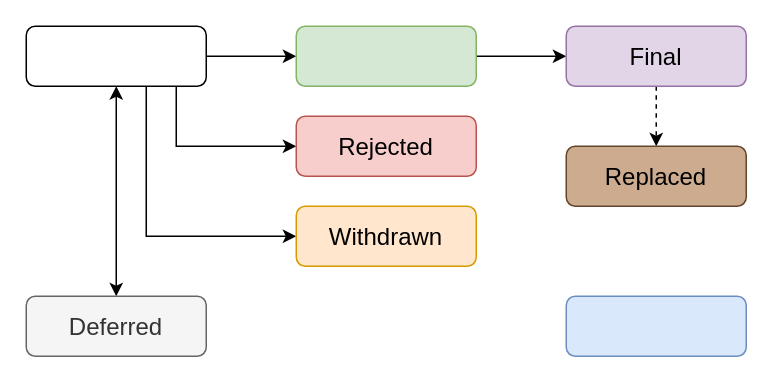
Image size: 773x383. Some labels were removed from this diagram. Each missing label, with the box of its shape:
Accepted: (295, 25, 476, 86)
Active: (565, 295, 746, 356)
Draft: (25, 25, 206, 86)
